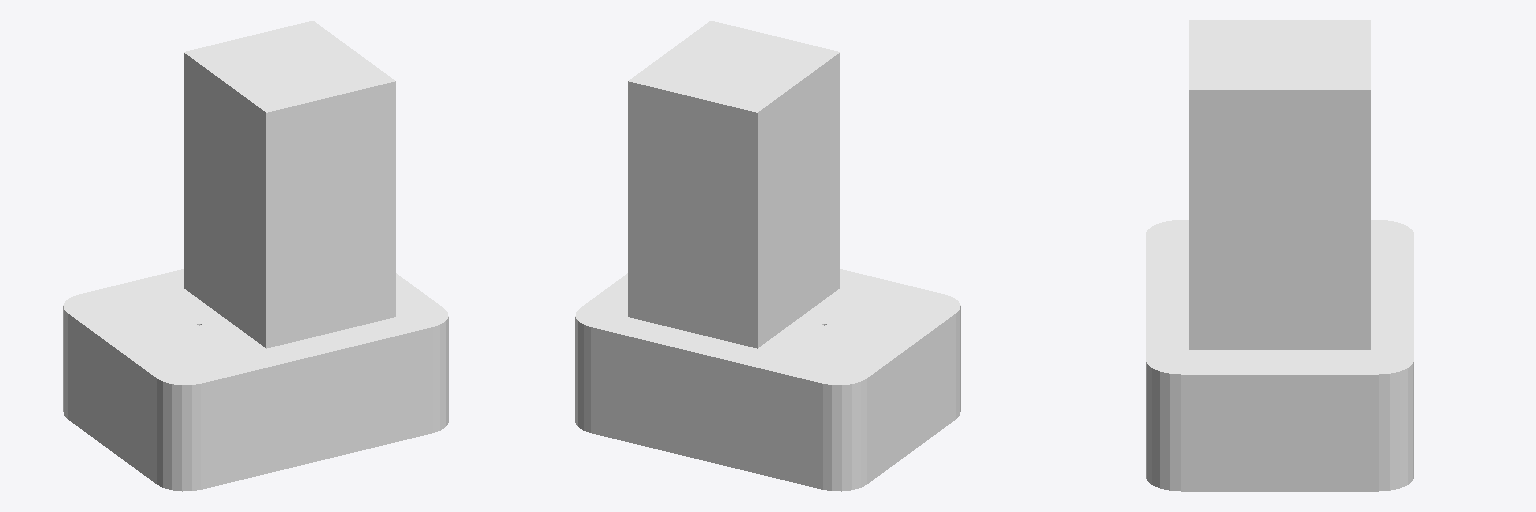
URDF robot description (jxjg):
<?xml version="1.0" encoding="utf-8"?>
<!-- This URDF was automatically created by SolidWorks to URDF Exporter! Originally created by [author] ([email redacted]) 
     Commit Version: 1.6.0-4-g7f85cfe  Build Version: 1.6.7995.38578
     For more information, please see http://wiki.ros.org/sw_urdf_exporter -->
<robot
  name="jxjg">
  <link
    name="base">
    <inertial>
      <origin
        xyz="0.20001 -0.18 1.9838E-16"
        rpy="0 0 0" />
      <mass
        value="272.3" />
      <inertia
        ixx="15.465"
        ixy="-1.8188E-05"
        ixz="-9.7582E-16"
        iyy="35.665"
        iyz="2.8984E-16"
        izz="26.081" />
    </inertial>
    <visual>
      <origin
        xyz="0 0 0"
        rpy="0 0 0" />
      <geometry>
        <mesh
          filename="package://jxjg/meshes/base_link.STL" />
      </geometry>
      <material
        name="jxjg">
        <color
          rgba="1 1 1 1" />
      </material>
    </visual>
    <collision>
      <origin
        xyz="0 0 0"
        rpy="0 0 0" />
      <geometry>
        <mesh
          filename="package://jxjg/meshes/base_link.STL" />
      </geometry>
    </collision>
  </link>
  <link
    name="link1">
    <inertial>
      <origin
        xyz="-3.764E-17 -0.4 0"
        rpy="0 0 0" />
      <mass
        value="187.68" />
      <inertia
        ixx="13.319"
        ixy="4.9345E-31"
        ixz="2.237E-16"
        iyy="7.3774"
        iyz="-2.3592E-16"
        izz="14.078" />
    </inertial>
    <visual>
      <origin
        xyz="0 0 0"
        rpy="0 0 0" />
      <geometry>
        <mesh
          filename="package://jxjg/meshes/link1.STL" />
      </geometry>
      <material
        name="">
        <color
          rgba="1 1 1 1" />
      </material>
    </visual>
    <collision>
      <origin
        xyz="0 0 0"
        rpy="0 0 0" />
      <geometry>
        <mesh
          filename="package://jxjg/meshes/link1.STL" />
      </geometry>
    </collision>
  </link>
  <joint
    name="joint1"
    type="fixed">
    <origin
      xyz="0.32 0 0"
      rpy="-1.5708 0 -1.5708" />
    <parent
      link="base" />
    <child
      link="link1" />
    <axis
      xyz="0 0 0" />
  </joint>
</robot>

--- What the picture shows (computed from the rendered views, not written in the file) ---
The picture shows the robot from 3 angles, left to right: view 1: azimuth 30°, elevation 25°; view 2: azimuth 150°, elevation 25°; view 3: azimuth 270°, elevation 25°; orthographic projection.
Robot: jxjg — 2 links, 1 joints (1 fixed); root link base; default pose: all joints at 0.
Links seen in each view (by area): view 1: link1, base; view 2: link1, base; view 3: link1, base.
Boxes of the visible links, box(x1,y1,x2,y2) form: link1: box(184, 21, 395, 348); base: box(63, 269, 448, 491); link1: box(628, 21, 839, 348); base: box(575, 269, 960, 491); link1: box(1189, 20, 1370, 349); base: box(1146, 220, 1413, 491).
Bounding box of the posed robot: 1.02 × 0.75 × 1.16 m (x, y, z).
2 mesh visuals loaded from 2 distinct referenced files (2 binary STL).
